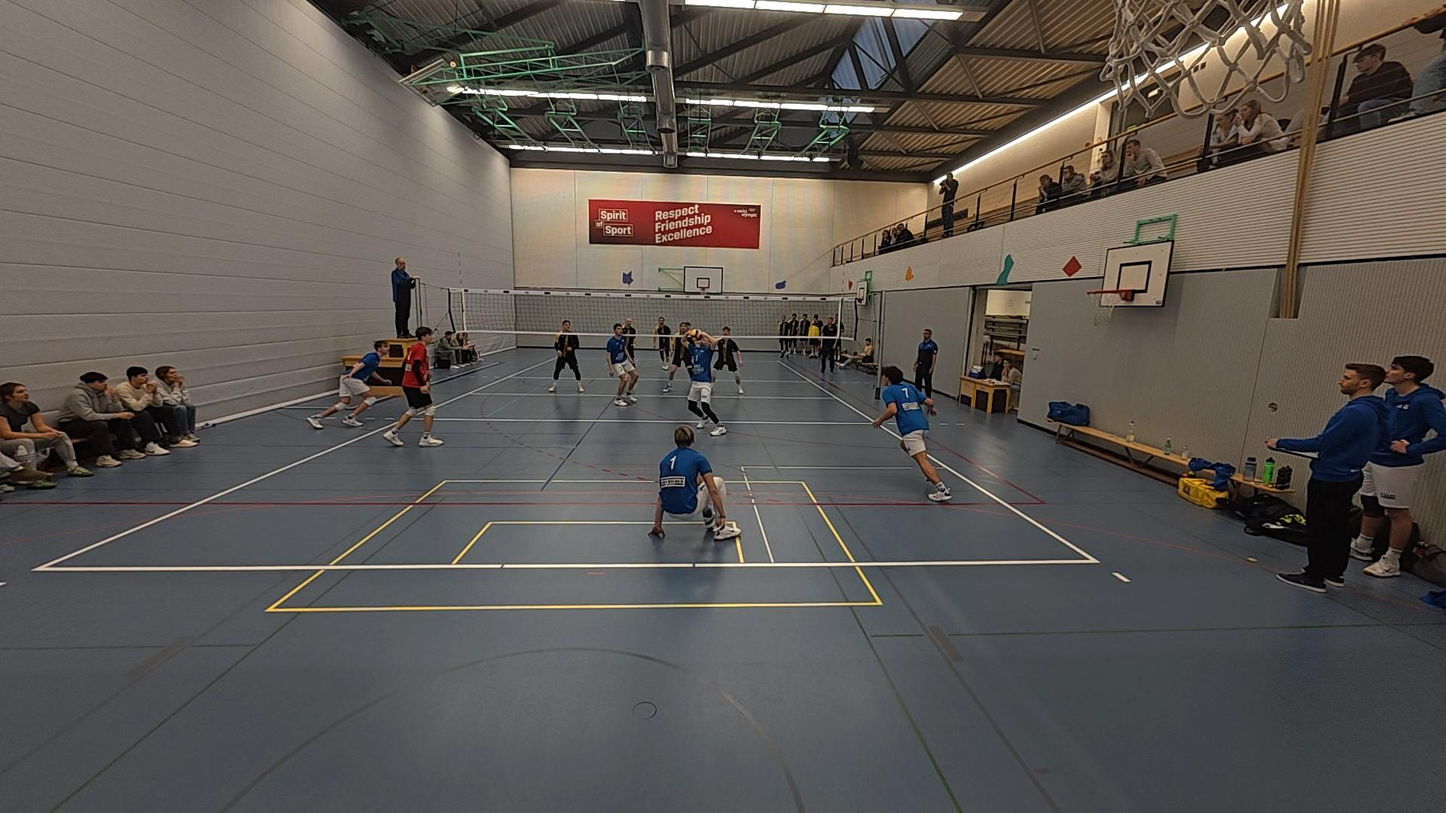Player: (649, 426, 741, 541), (873, 366, 950, 502), (385, 327, 443, 447), (308, 346, 381, 428), (606, 321, 639, 407), (548, 320, 585, 394), (713, 324, 744, 394), (663, 320, 692, 391), (651, 315, 673, 376), (621, 316, 639, 374)
Set: (681, 320, 729, 440)
ball: (901, 265, 917, 280), (688, 323, 702, 340)
